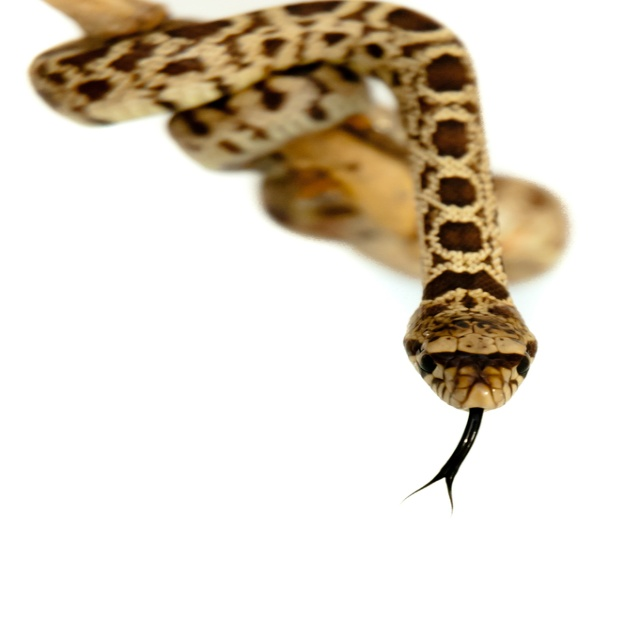Snake: (30, 0, 573, 512)
